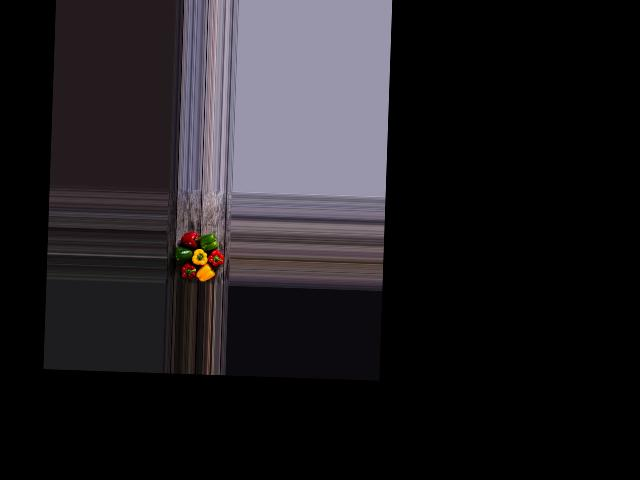bell_pepper: (180, 263, 199, 283)
